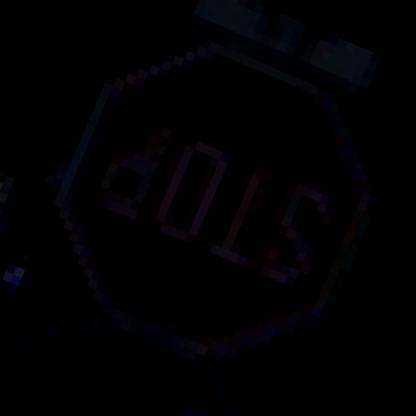stop: (11, 0, 409, 398)
